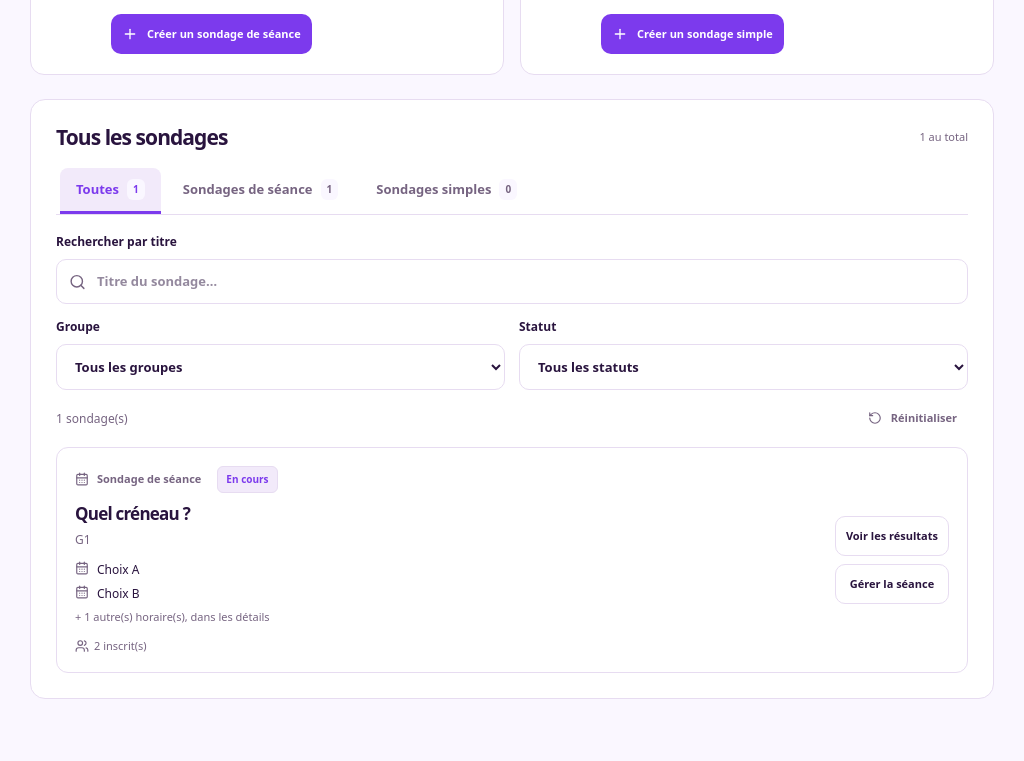
Scenario: shows an explicit warning instead of claiming everyone has voted when group loading fails
(page scrolled)
Click the button with aria-label "Voir les résultats : Quel créneau ?": (892, 536) [835,516,949,556]
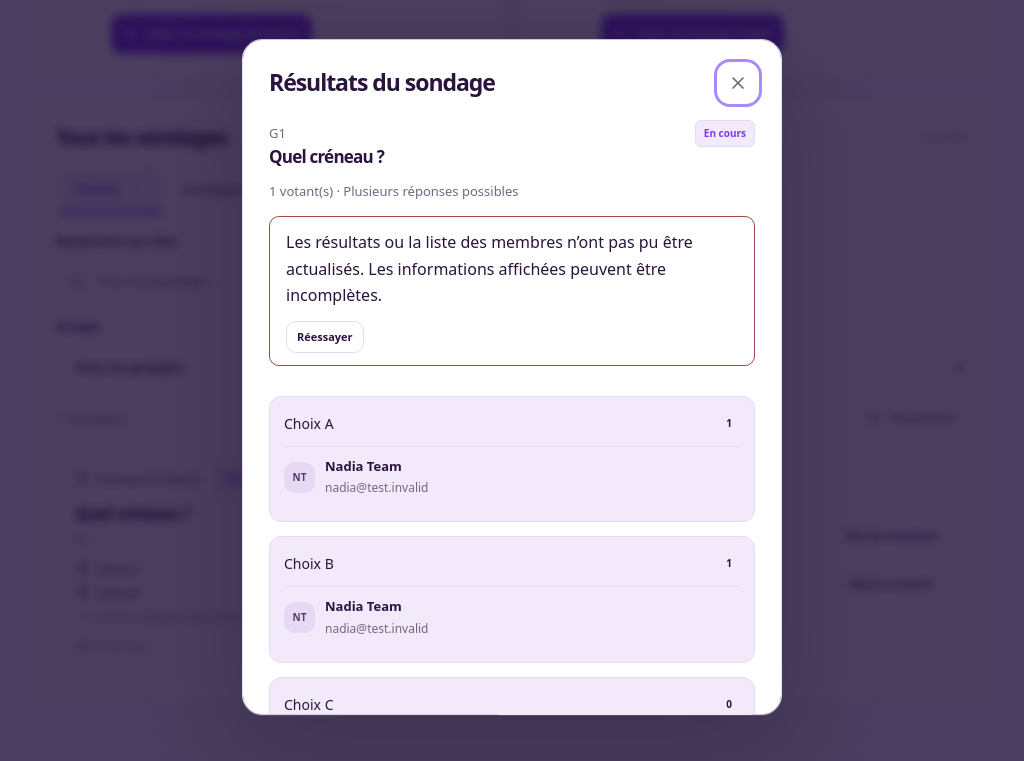
Result: the message is shown at [269,217,755,366]
